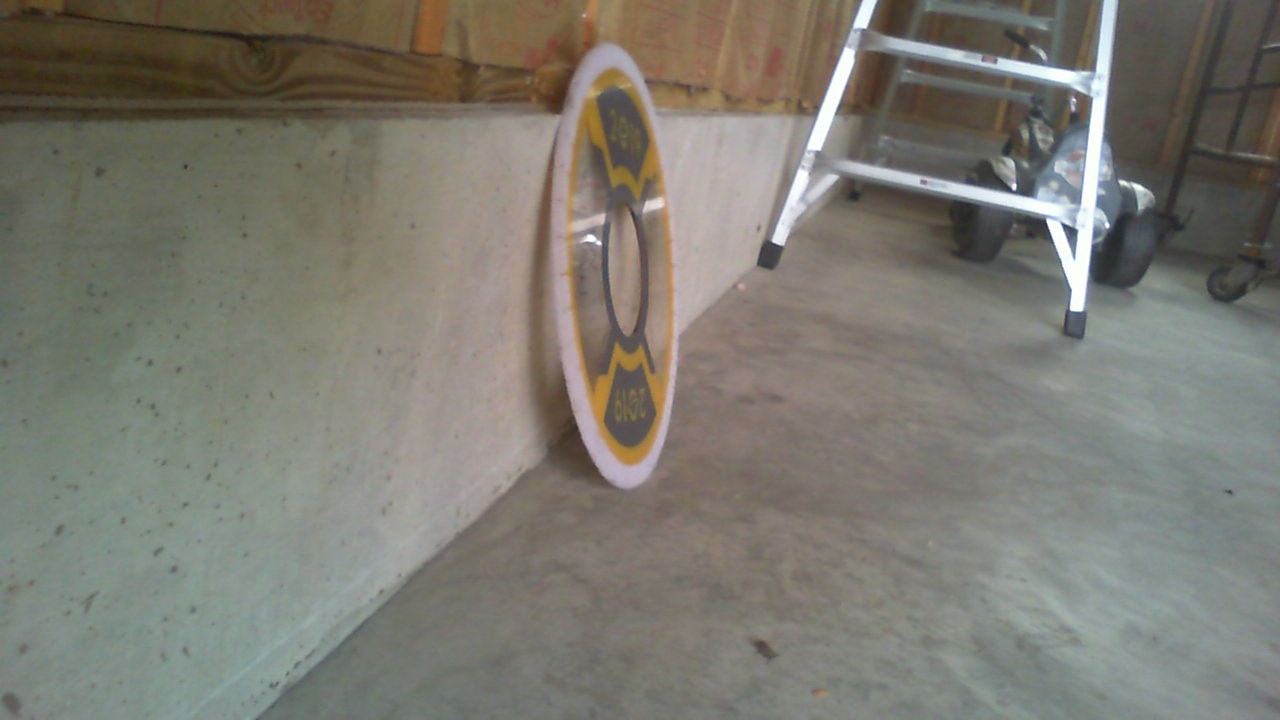Hatch: (546, 45, 684, 490)
